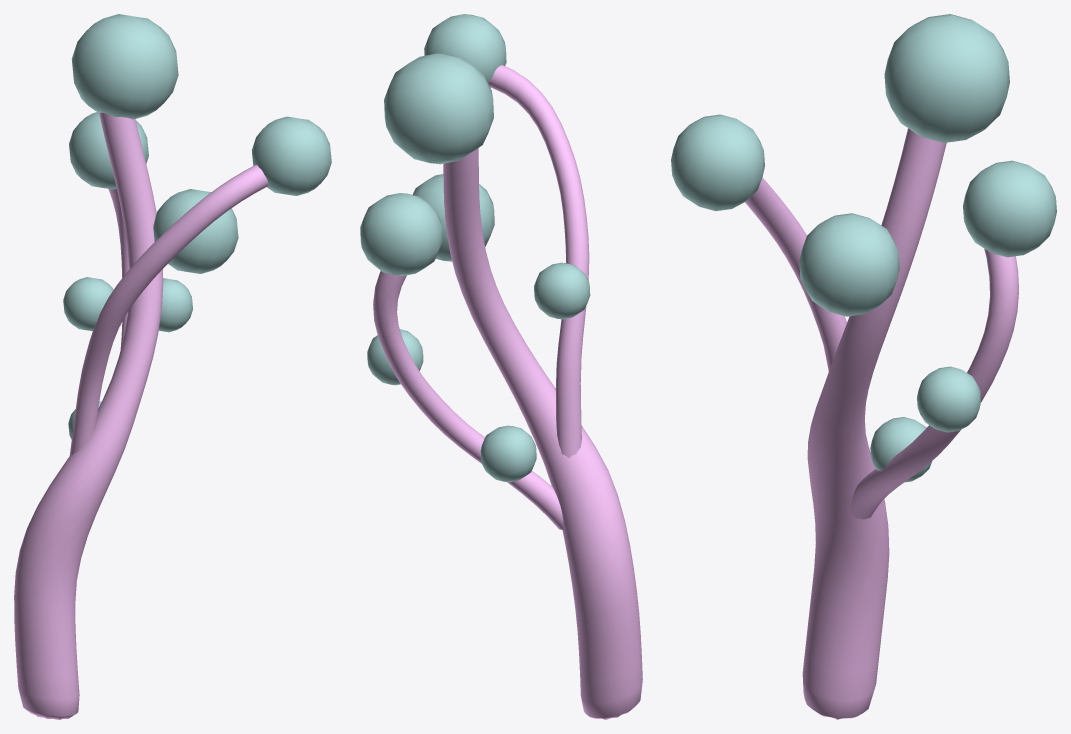
Rendered from Baum.fbx.
The picture shows the model from 3 angles, left to right: view 1: azimuth 30°, elevation 25°; view 2: azimuth 150°, elevation 25°; view 3: azimuth 270°, elevation 25°; orthographic projection. The views are drawn at different scales.
Visible parts, largest first — view 1: pCube190; view 2: pCube190; view 3: pCube190.
Part boxes in pixels (bbox=[...]): pCube190: bbox=[14, 14, 331, 719]; pCube190: bbox=[360, 14, 642, 719]; pCube190: bbox=[671, 14, 1056, 719].
Size of the model in its own units: 15.75 by 37.86 by 17.46.
